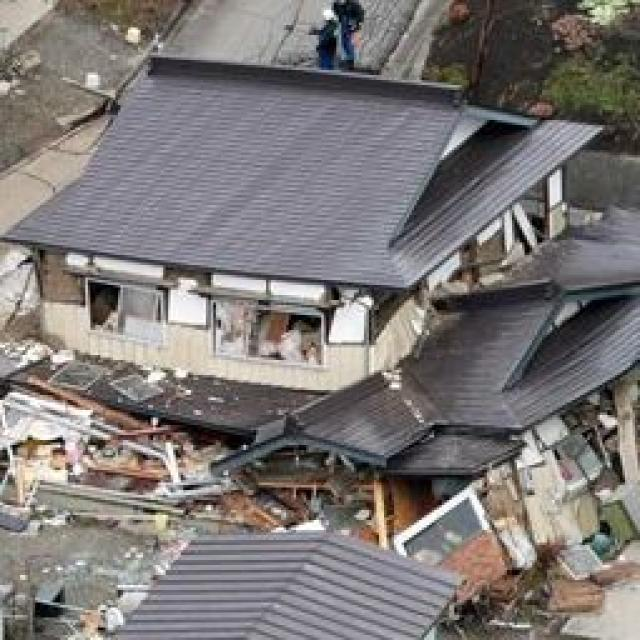collapsed_building: (0, 222, 637, 562)
